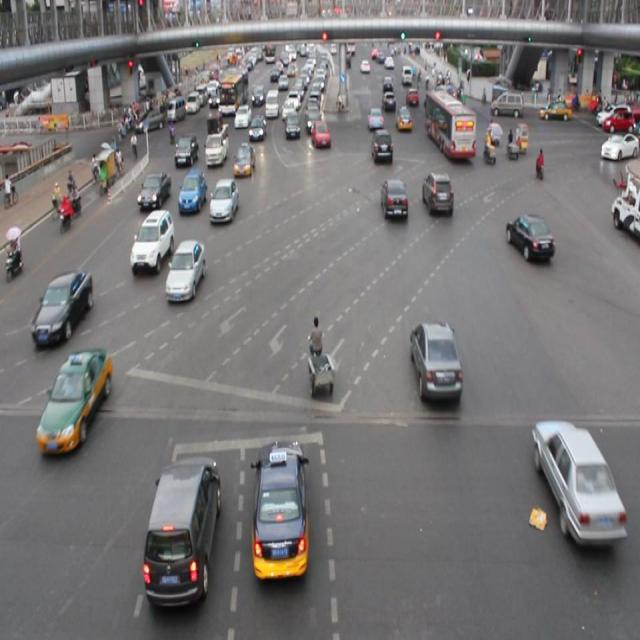car: (532, 418, 624, 538), (251, 439, 309, 580), (36, 348, 110, 445), (410, 317, 461, 405), (33, 271, 94, 337), (506, 211, 552, 265), (131, 211, 173, 268), (165, 241, 205, 296), (420, 170, 450, 216), (209, 178, 238, 224), (138, 170, 172, 208), (380, 178, 408, 224), (179, 168, 205, 214), (371, 126, 393, 168), (173, 134, 197, 168), (310, 116, 331, 152), (234, 143, 255, 179), (284, 110, 302, 140), (249, 112, 265, 143), (393, 105, 411, 127), (367, 104, 382, 130)
truck: (146, 458, 217, 599), (204, 105, 227, 164)
van: (424, 90, 474, 160)
